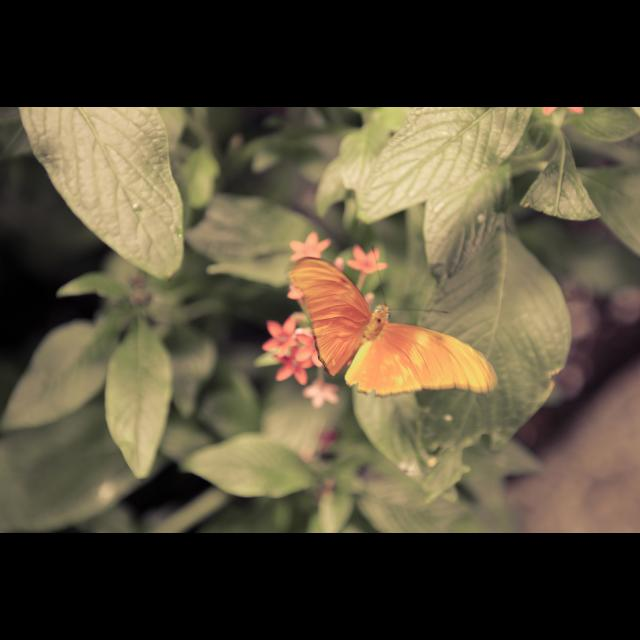Flower: (259, 312, 343, 408), (344, 244, 388, 276), (290, 233, 332, 255)
